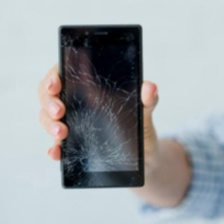phone: (54, 21, 146, 192)
